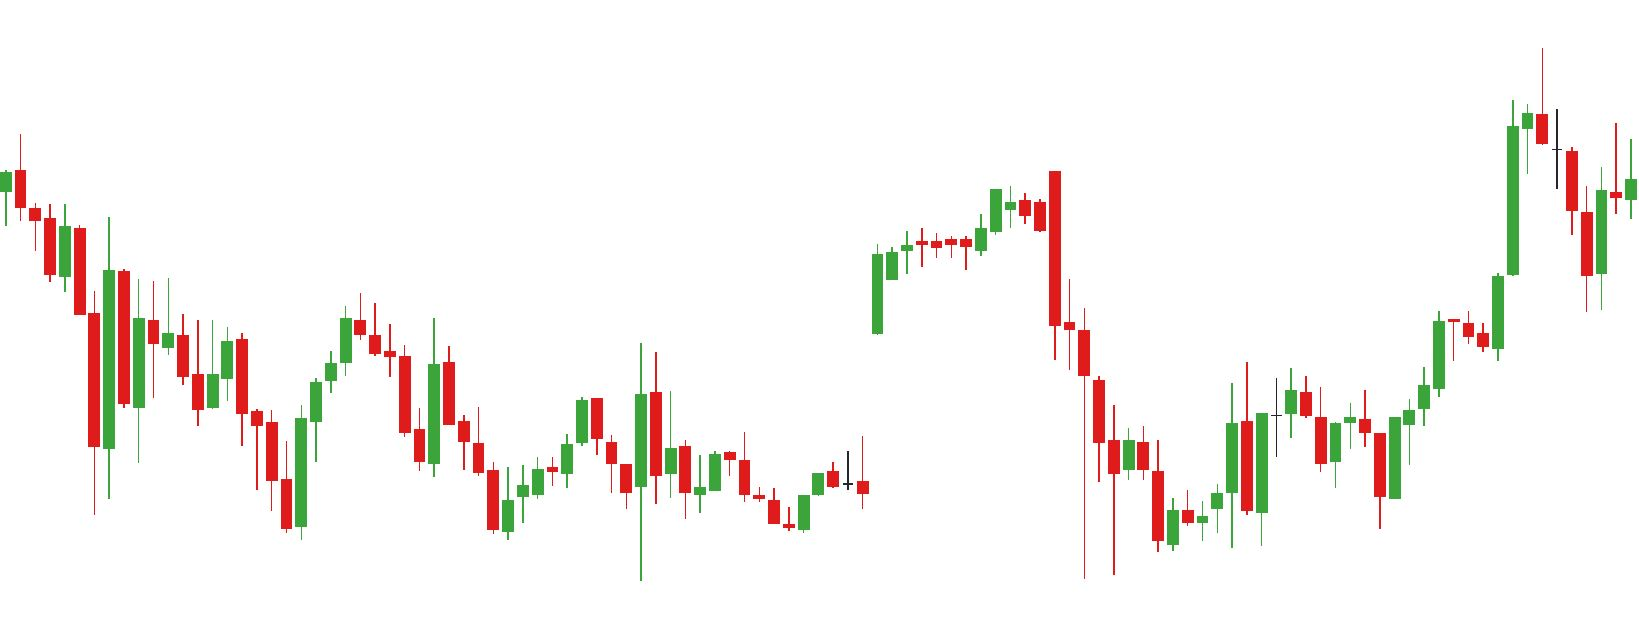buy: (86, 375, 310, 538)
